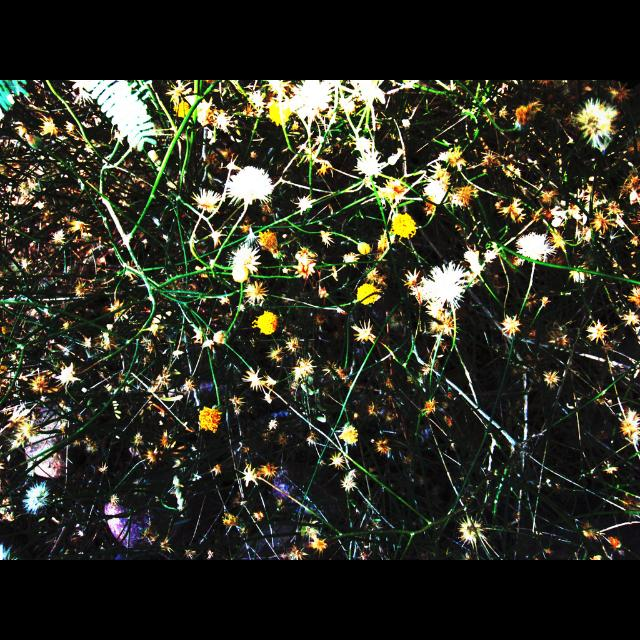Flower: (1, 80, 640, 560), (414, 254, 474, 316)
